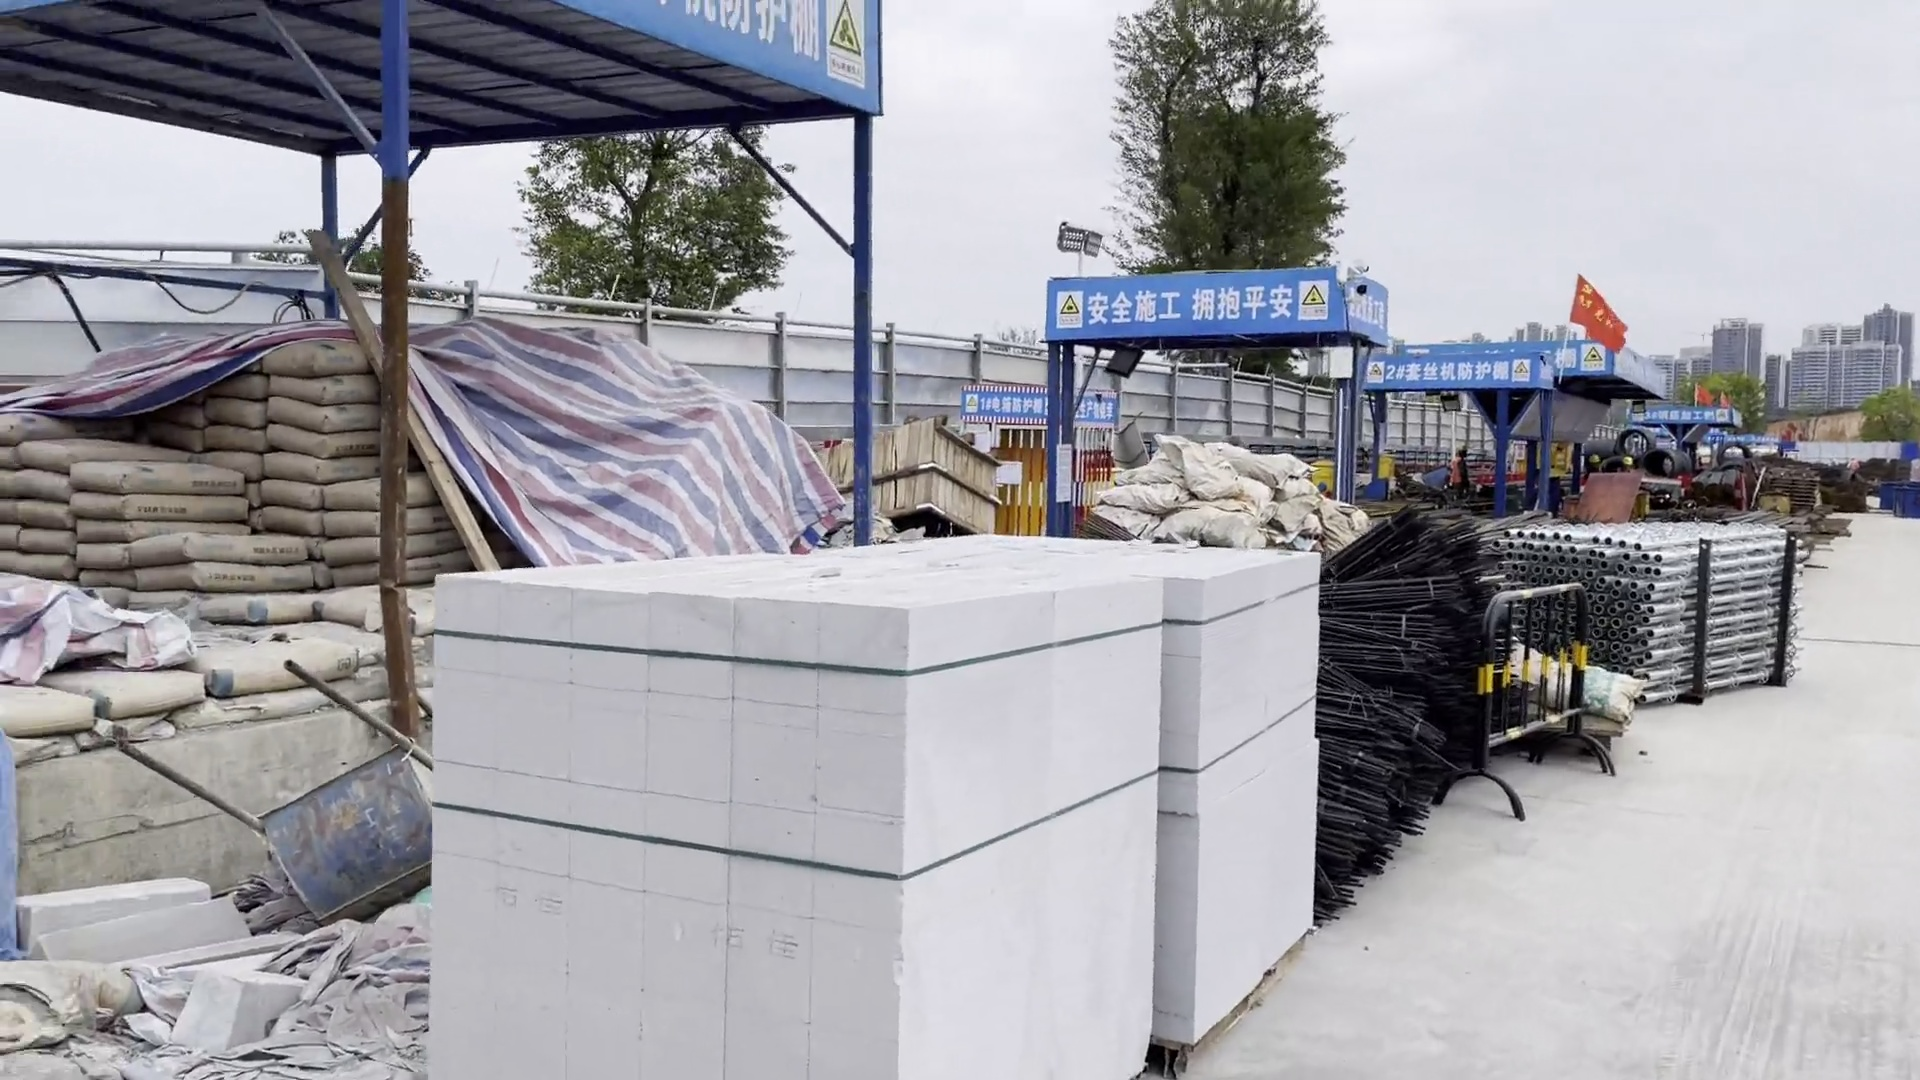brick: (359, 512, 1341, 1072)
ebox: (1303, 458, 1337, 493), (1378, 454, 1404, 487)
hopper: (1895, 471, 1920, 525)
scaffold: (1462, 512, 1836, 694)
slogan: (1081, 285, 1295, 324)
